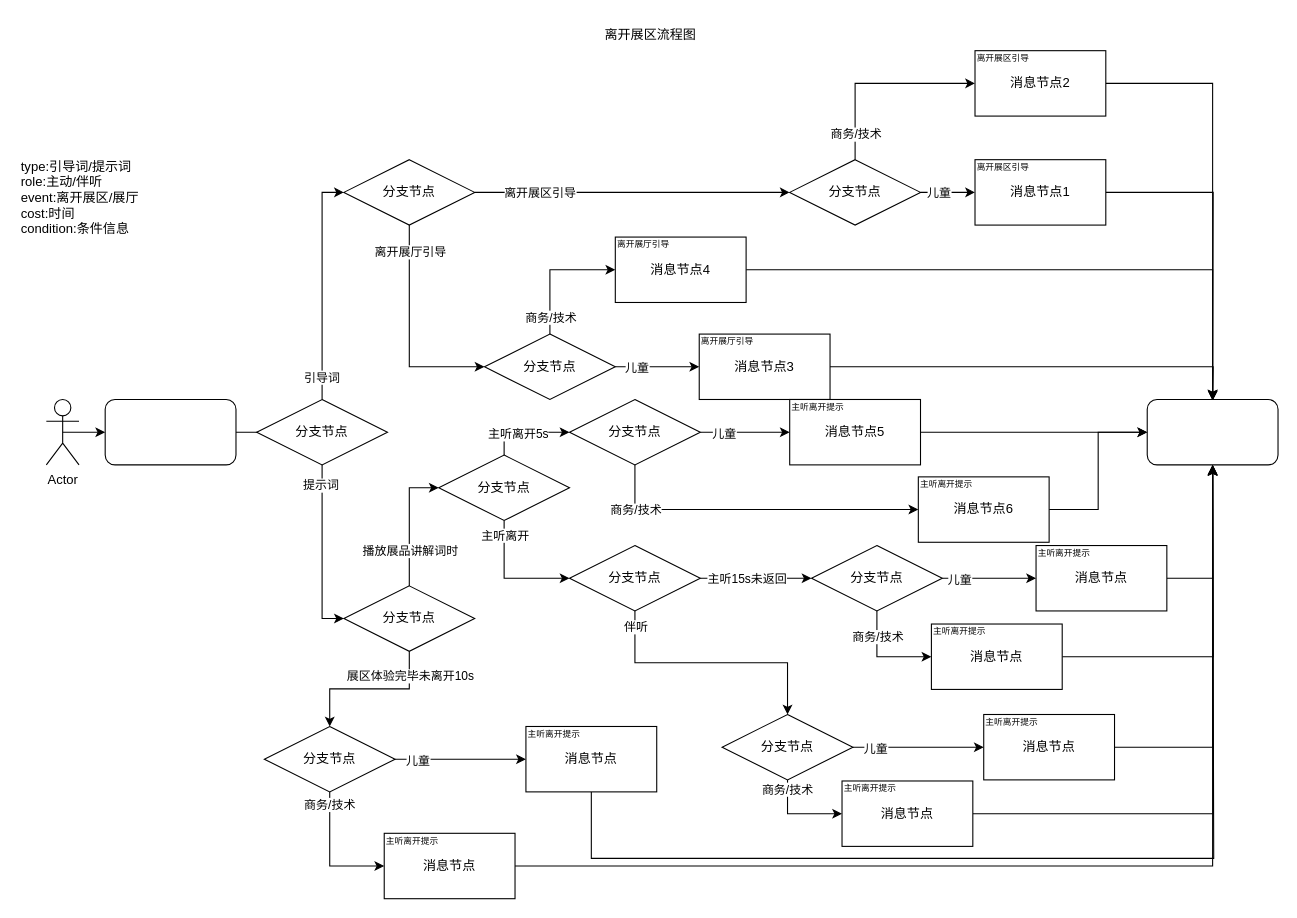
Some shapes in this 1297 by 918 pixel diagram are drawn without their labels. The centre of each missing label's shape, as x and y in pixels:
"开始节点" goes at (x=170, y=431).
"结束节点" goes at (x=1212, y=431).
